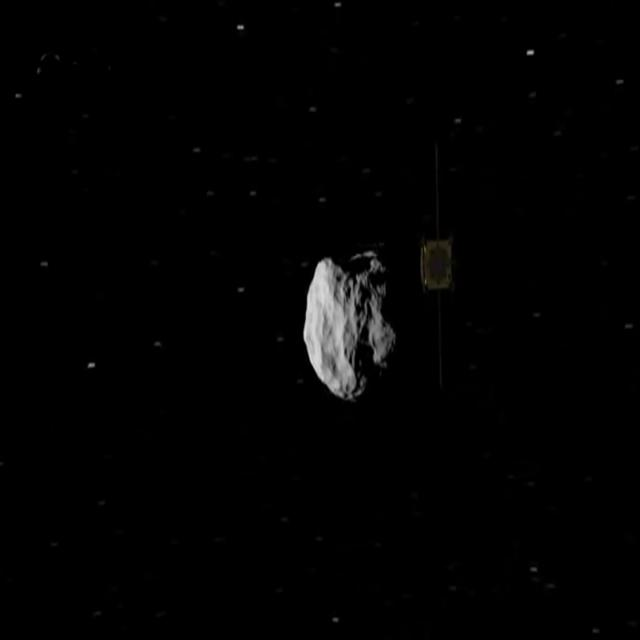satellite: (417, 227, 463, 299)
